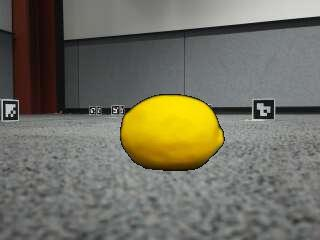lemon: (121, 95, 223, 171)
